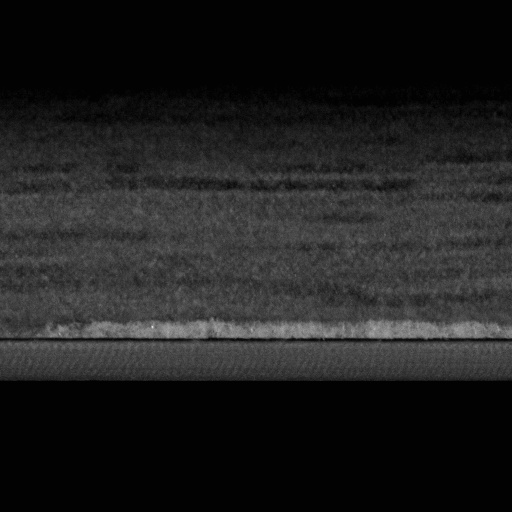jiaofeng: (0, 336, 511, 349)
